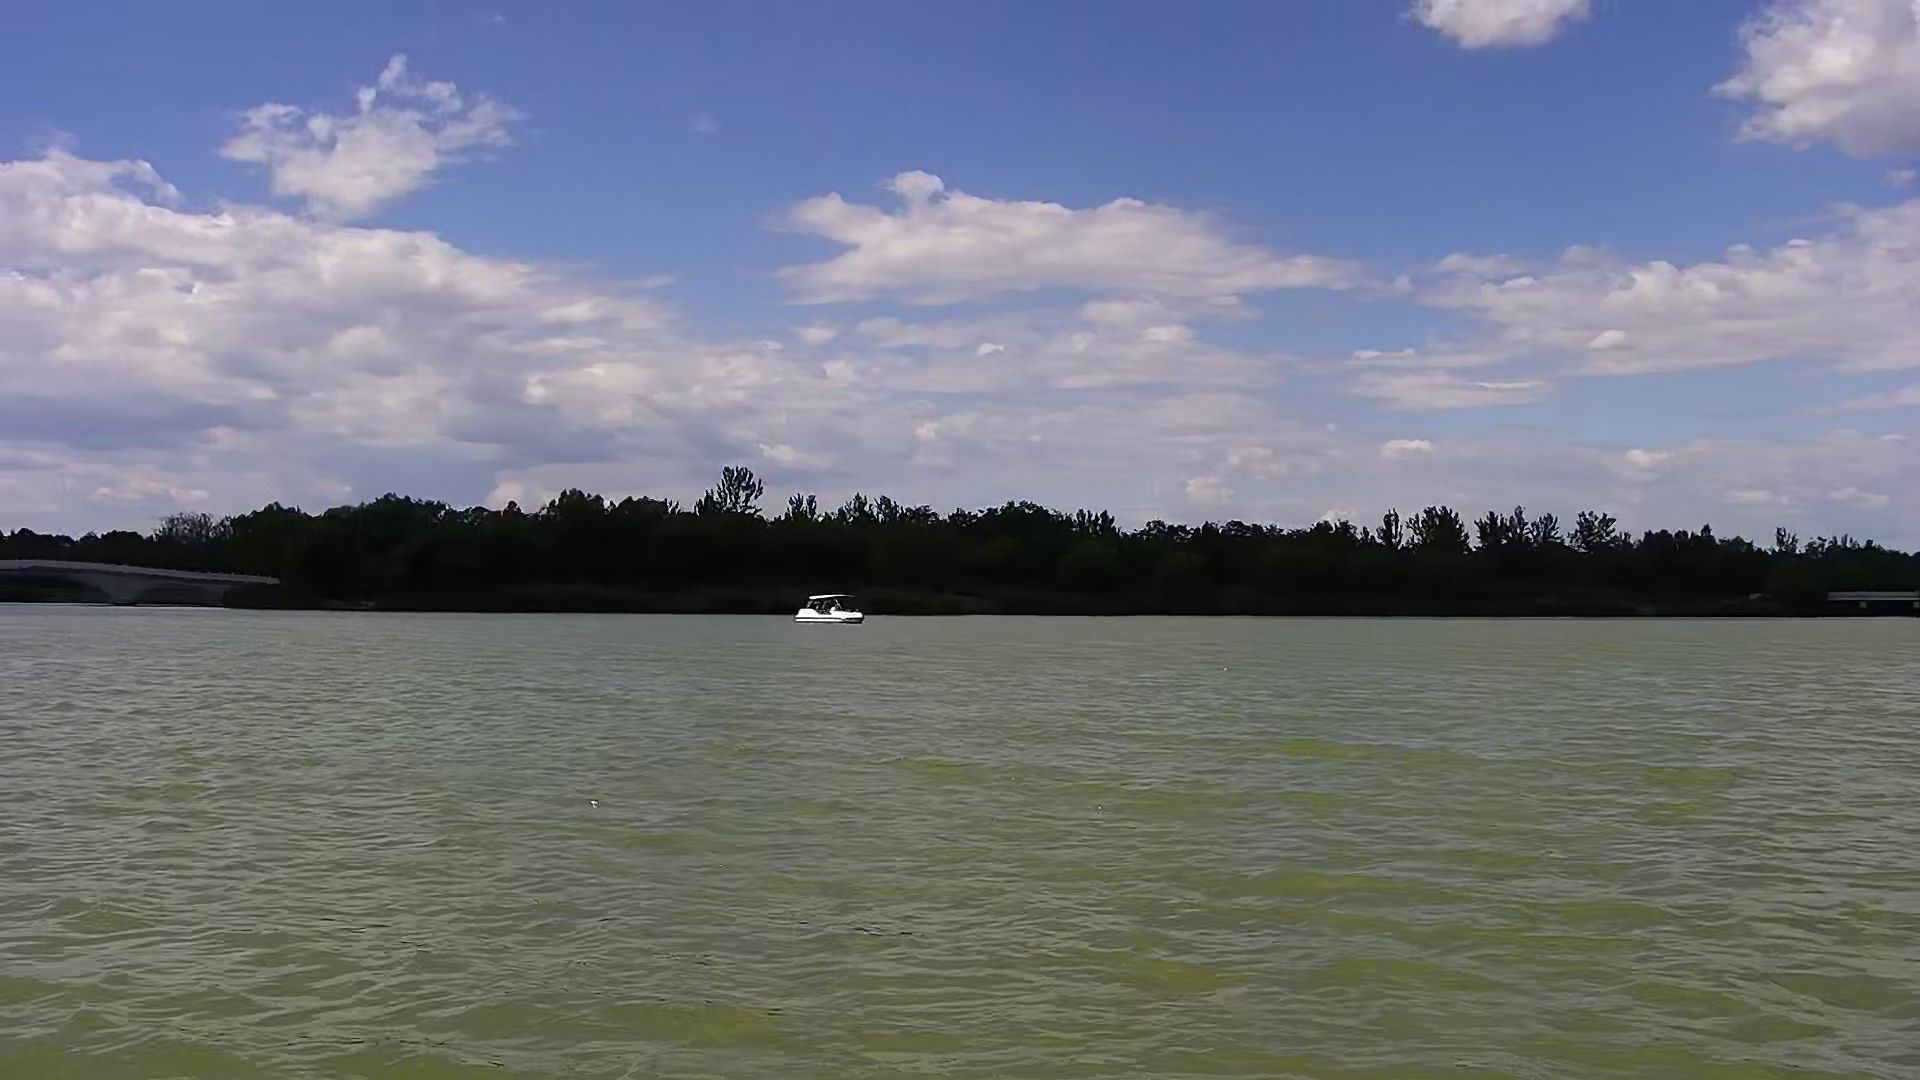boat: (795, 585, 866, 634)
bridge: (1, 553, 291, 612)
